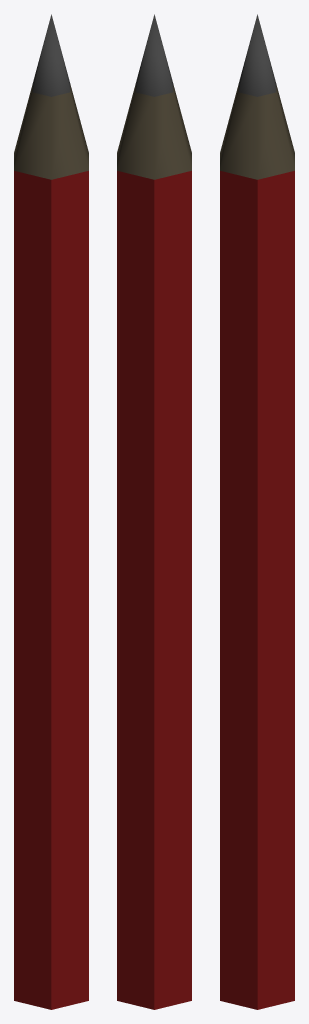
Rendered from pencil.fbx.
3 views of the same model, side by side, from view 1: azimuth 30°, elevation 25°; view 2: azimuth 210°, elevation 25°; view 3: azimuth 330°, elevation 25° (orthographic).
Parts seen in each view (by area): view 1: pCylinder1; view 2: pCylinder1; view 3: pCylinder1.
Part boxes in pixels (x1,y1,x2,y2): pCylinder1: (14, 14, 88, 1009); pCylinder1: (117, 14, 191, 1009); pCylinder1: (220, 14, 294, 1009).
Size of the model in its own units: 0.017 by 0.2124 by 0.0147.
